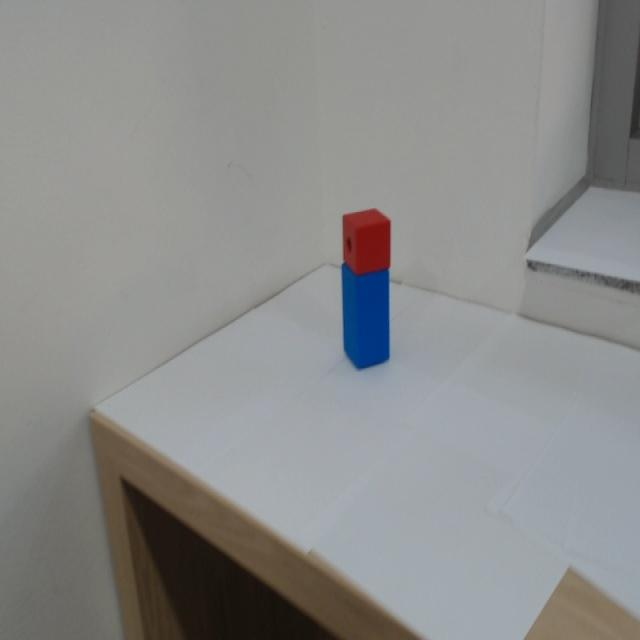cube: (336, 199, 399, 272)
